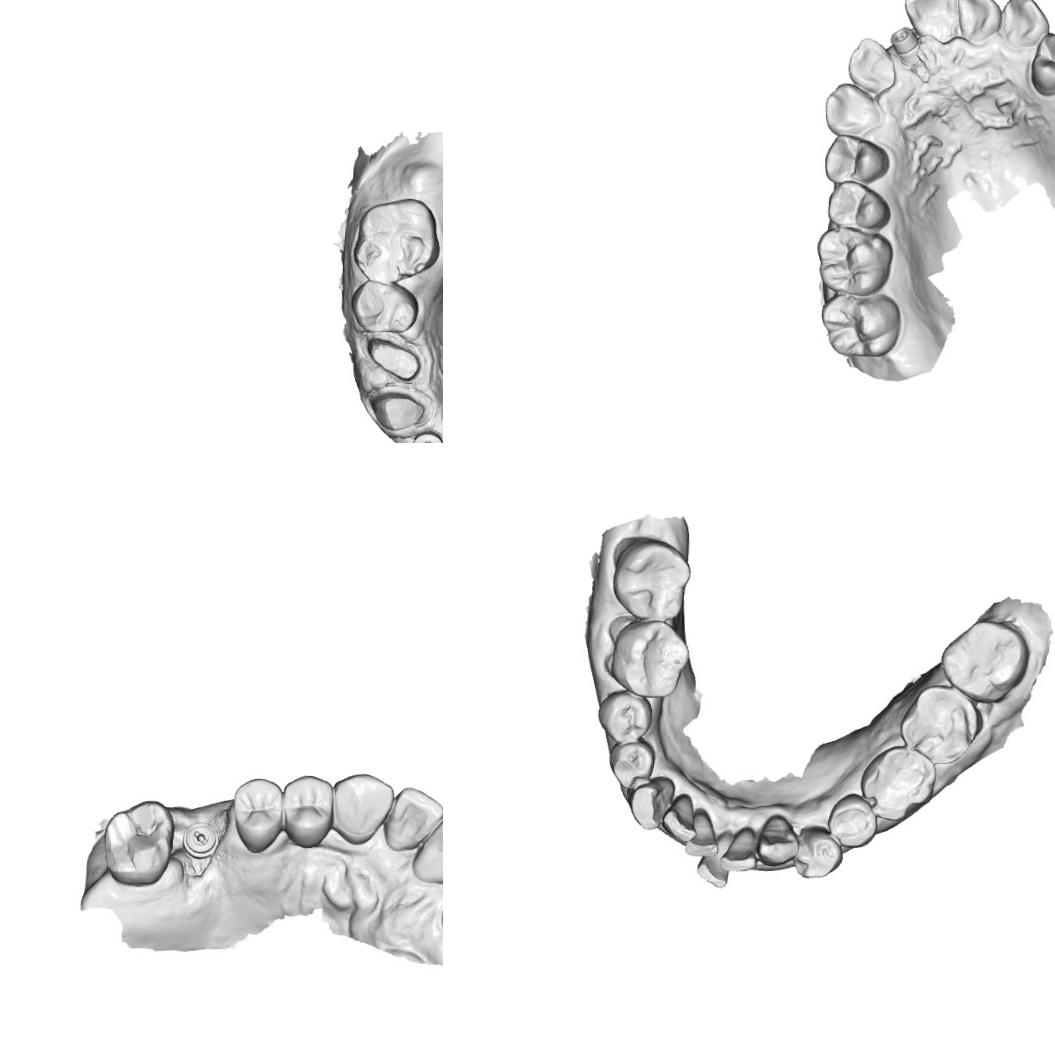canine: (331, 770, 396, 844), (822, 81, 883, 136), (627, 773, 677, 832), (755, 810, 802, 869), (997, 0, 1052, 50)
crown: (362, 334, 424, 384), (370, 387, 428, 434)
implant: (888, 24, 923, 67)
implant_minus: (181, 819, 221, 861)
implant_plus: (412, 428, 443, 443)
incisor: (379, 784, 443, 856), (846, 36, 898, 96), (901, 0, 960, 45), (409, 816, 443, 888), (680, 806, 725, 858), (694, 831, 734, 889), (658, 791, 700, 846), (956, 0, 1003, 46), (718, 820, 758, 874)
molar: (349, 193, 443, 286), (937, 616, 1031, 706), (896, 681, 988, 769), (608, 534, 694, 624), (606, 616, 693, 701), (99, 796, 177, 888), (856, 742, 940, 824), (818, 292, 902, 358), (814, 227, 894, 296)
premolar: (226, 775, 287, 856), (346, 277, 422, 335), (280, 772, 336, 850), (595, 688, 655, 748), (822, 134, 890, 186), (788, 822, 846, 882), (826, 179, 892, 231), (824, 790, 880, 850), (606, 738, 658, 792), (1028, 30, 1055, 97)
